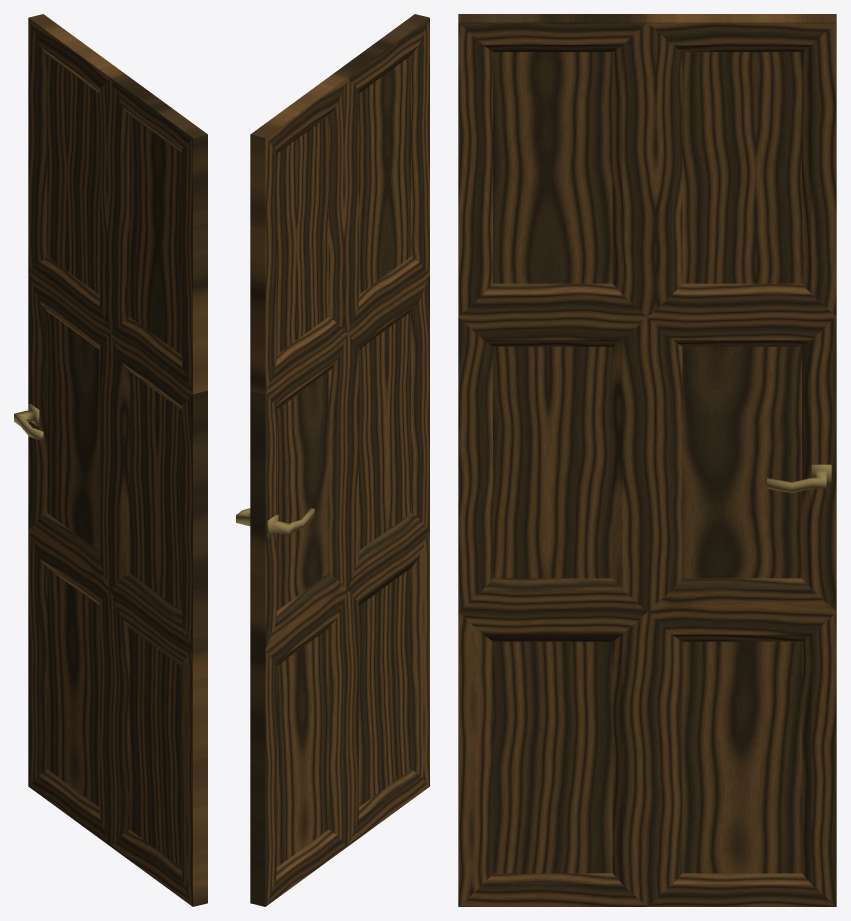
File: doors.gltf
3 views of the same model, side by side, from view 1: azimuth 30°, elevation 25°; view 2: azimuth 150°, elevation 25°; view 3: azimuth 270°, elevation 25° (orthographic). The views are drawn at different scales.
Visible parts, largest first — view 1: doors; view 2: doors; view 3: doors.
Boxes of the visible parts, x1=… form: doors: x1=14, y1=14, x2=207, y2=906; doors: x1=236, y1=14, x2=429, y2=906; doors: x1=458, y1=14, x2=836, y2=906.
Bounding box in the file's own units: 0.14 × 1.96 × 0.76.
2 materials, 1 textured.
